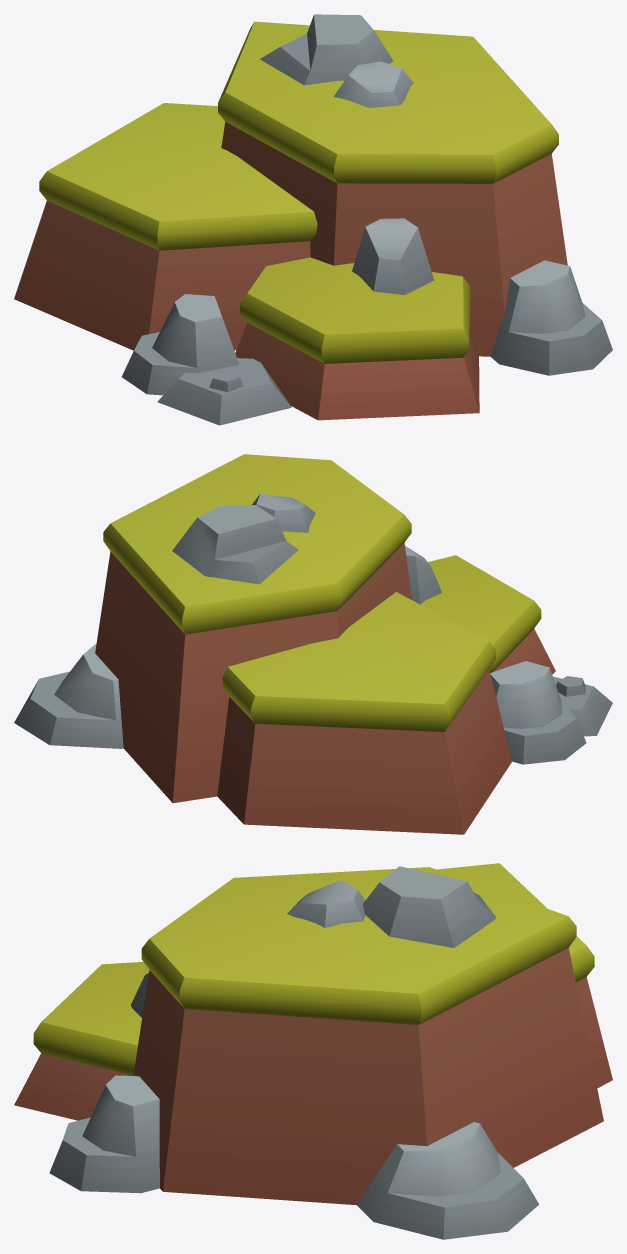
The model's file is hills_a.glb.
3 views of the same model, one above another, from view 1: azimuth 30°, elevation 25°; view 2: azimuth 150°, elevation 25°; view 3: azimuth 270°, elevation 25° (orthographic). The views are drawn at different scales.
Parts seen in each view (by area): view 1: hills_A; view 2: hills_A; view 3: hills_A.
Part boxes in pixels (left/top/right/bottom): hills_A: left=14, top=14, right=612, bottom=425; hills_A: left=14, top=454, right=612, bottom=834; hills_A: left=14, top=863, right=612, bottom=1239.
Bounding box in the file's own units: 1.76 × 0.7942 × 1.74.
1 material, 1 textured.
